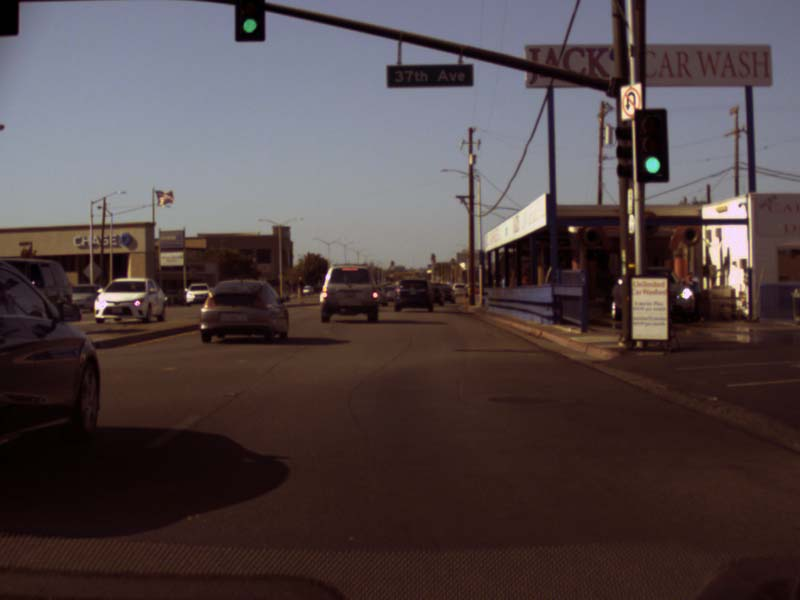Green: (634, 111, 666, 181)
